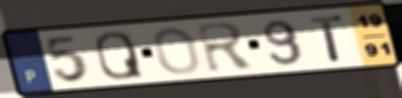5: (45, 34, 91, 85)
9: (261, 17, 306, 68)
O: (151, 25, 203, 76)
Q: (93, 30, 147, 82)
R: (193, 20, 258, 75)
T: (307, 13, 347, 63)
